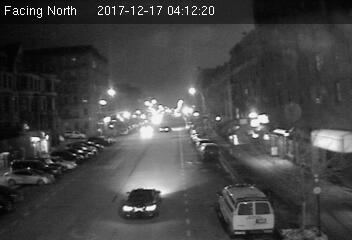car: (118, 186, 163, 220)
police: (213, 181, 273, 235)
